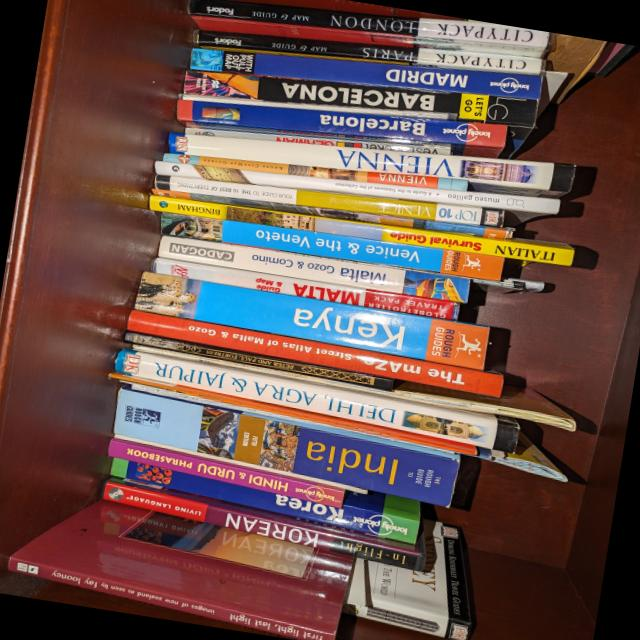book: (5, 481, 355, 640), (111, 347, 521, 454), (109, 385, 460, 508), (180, 46, 537, 153), (132, 271, 490, 371), (108, 433, 424, 545), (125, 307, 504, 398), (97, 471, 430, 572), (145, 194, 575, 267), (165, 128, 574, 200), (151, 160, 560, 225), (157, 210, 504, 282), (156, 234, 470, 304), (187, 0, 553, 60), (173, 97, 507, 160), (149, 254, 460, 321), (188, 44, 542, 101), (152, 173, 504, 229), (106, 436, 347, 509), (194, 29, 545, 76), (162, 152, 467, 192), (183, 126, 451, 156)
